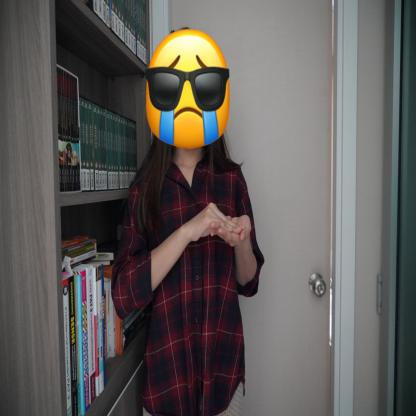Love: (180, 197, 256, 266)
